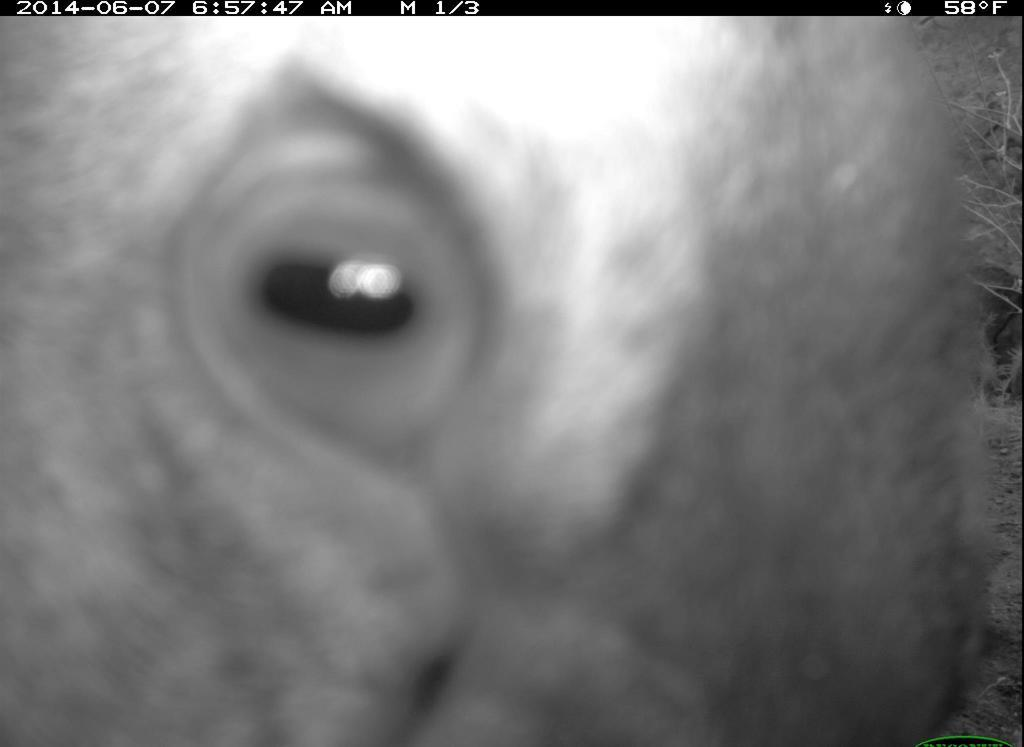deer: (4, 16, 987, 747)
